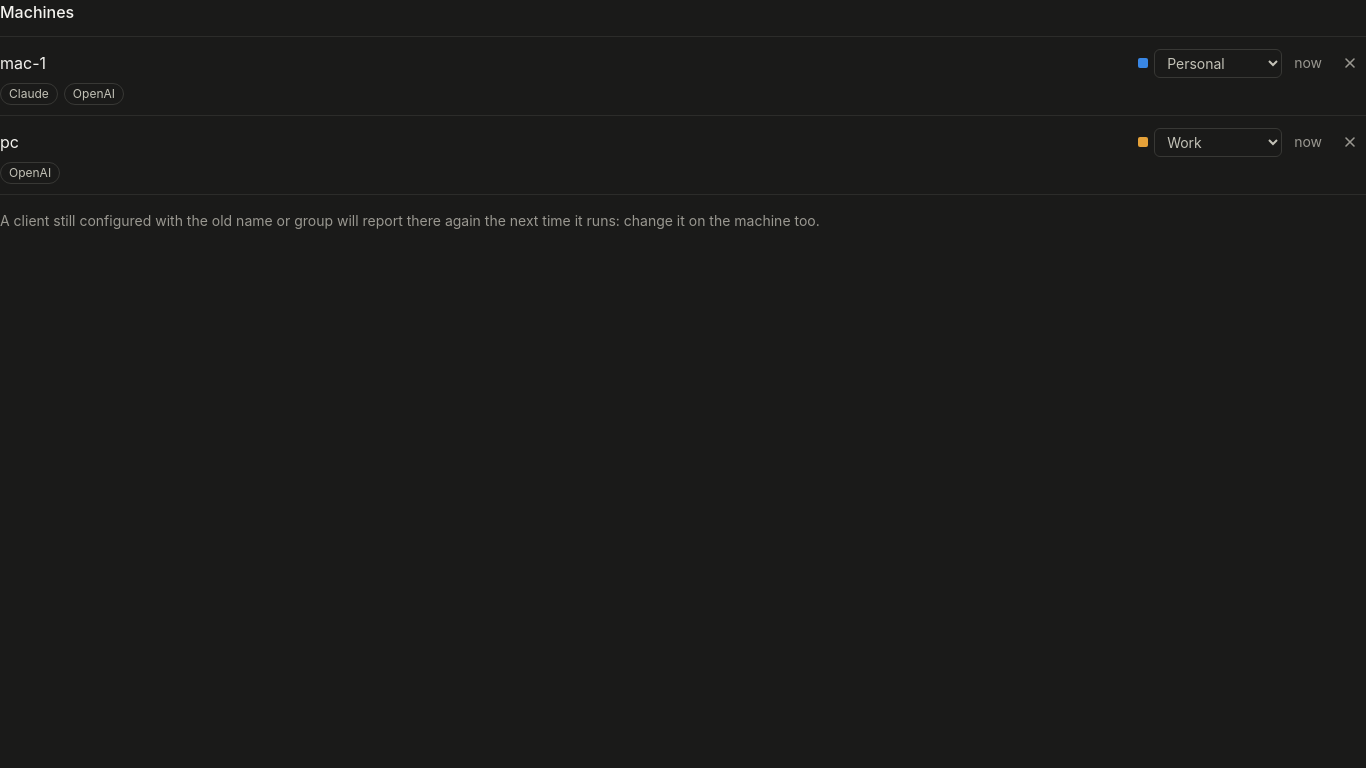
Scenario: MachinesSection › offers a merge for a rename onto another machine's name, and merges every entry once confirmed
Click the button "mac-1" at (23, 63), box x1=0 y1=51 x2=1126 y2=75
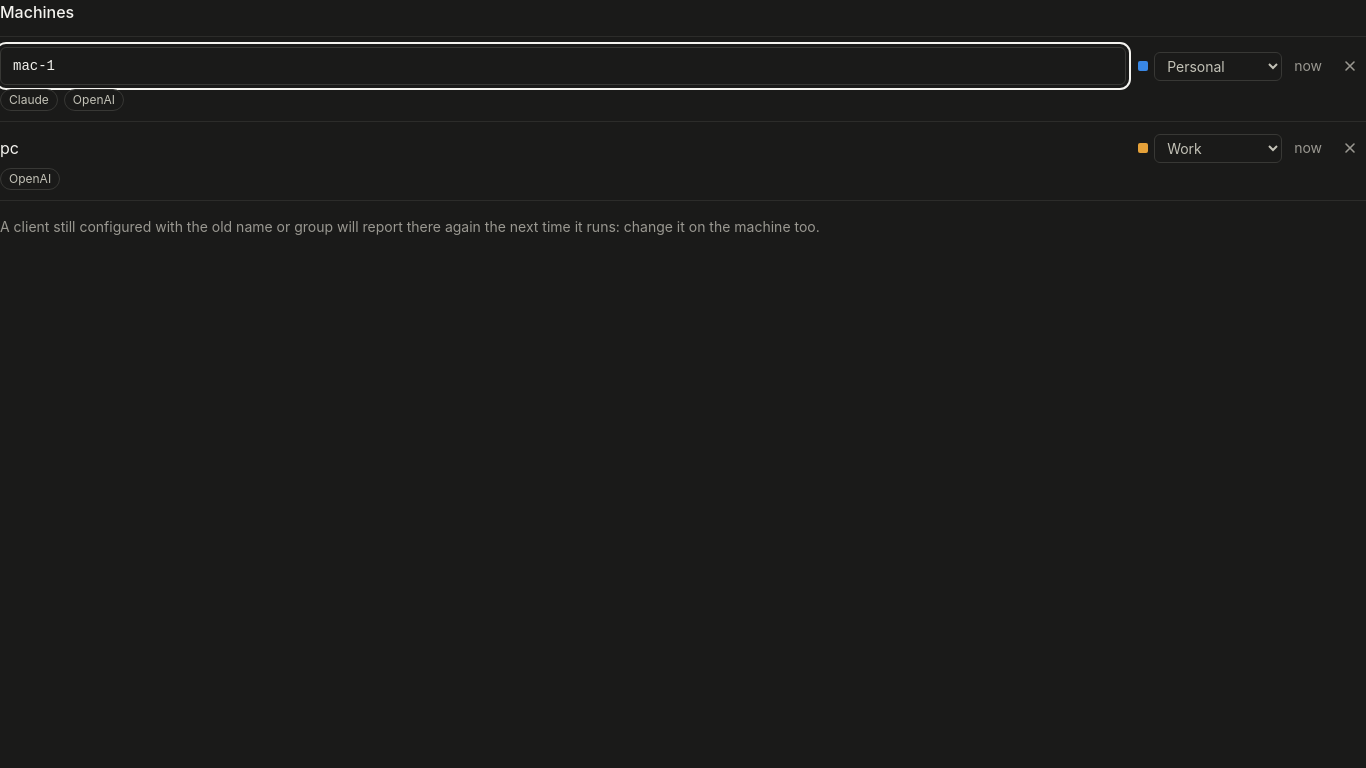
Replace the text in the field named "Rename “mac-1”" with "pc" at (563, 66), box x1=0 y1=47 x2=1126 y2=85
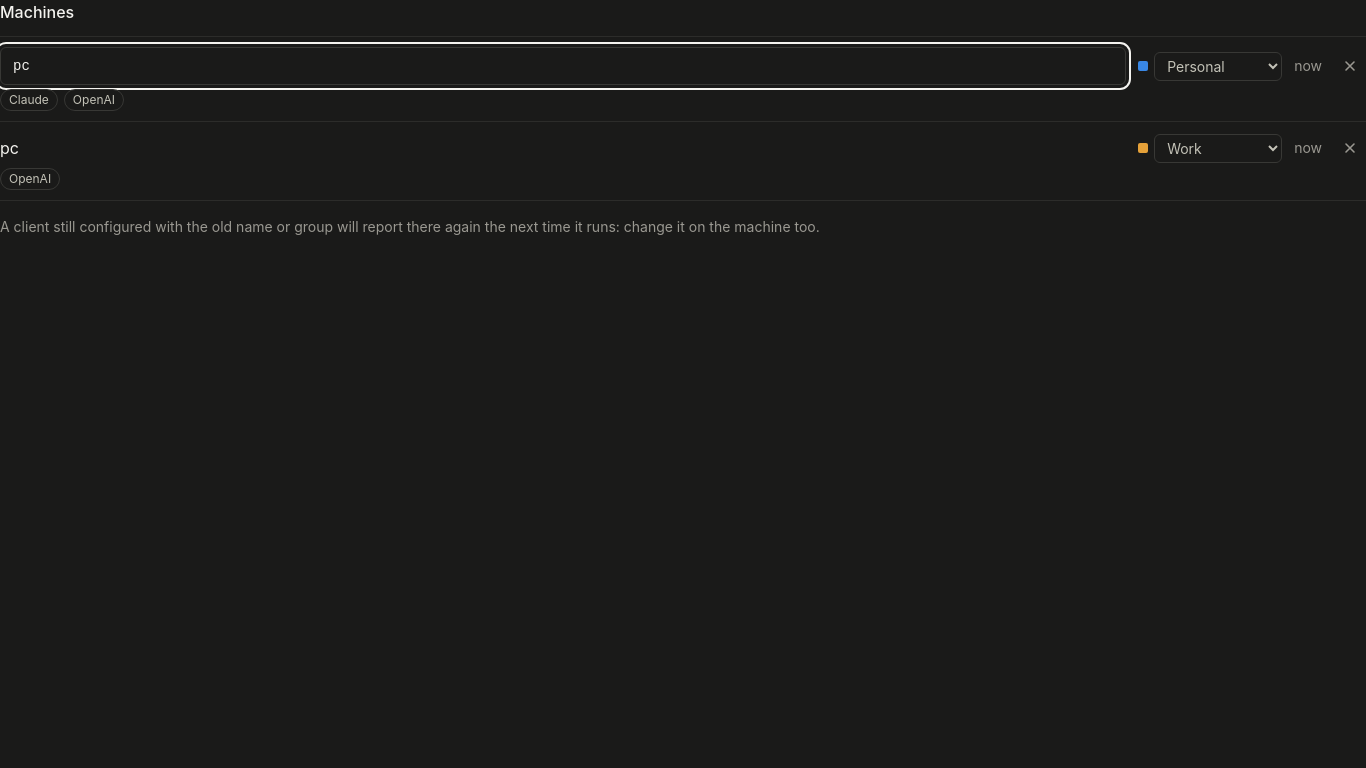
Press Enter in the field named "Rename “mac-1”", box x1=0 y1=47 x2=1126 y2=85
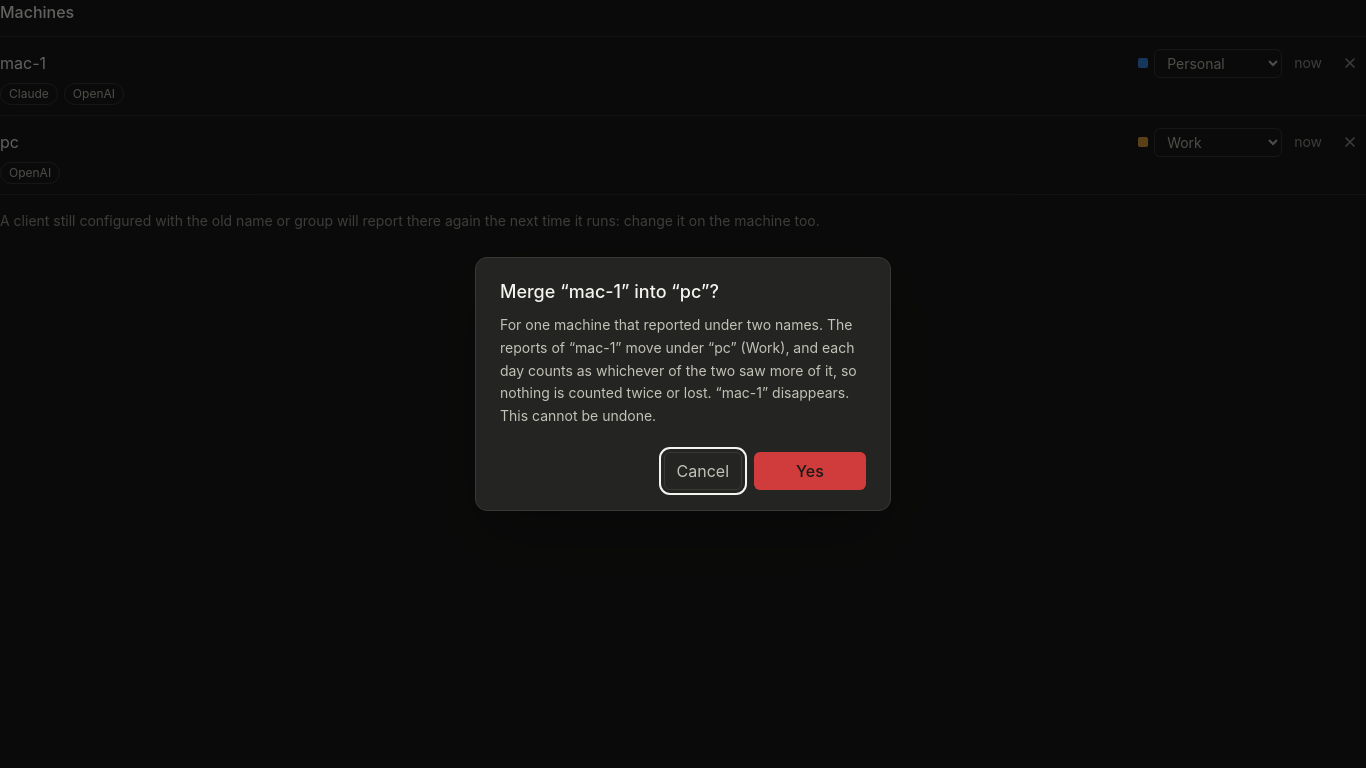
expect the heading "Merge “mac-1” into “pc”?" is shown: met, box x1=500 y1=281 x2=719 y2=302
expect the text "move under “pc” (Work)" is shown: met, box x1=500 y1=316 x2=857 y2=424
expect the button "Yes" is enabled: met
Click the button "Yes" at (810, 471), box x1=754 y1=452 x2=866 y2=490
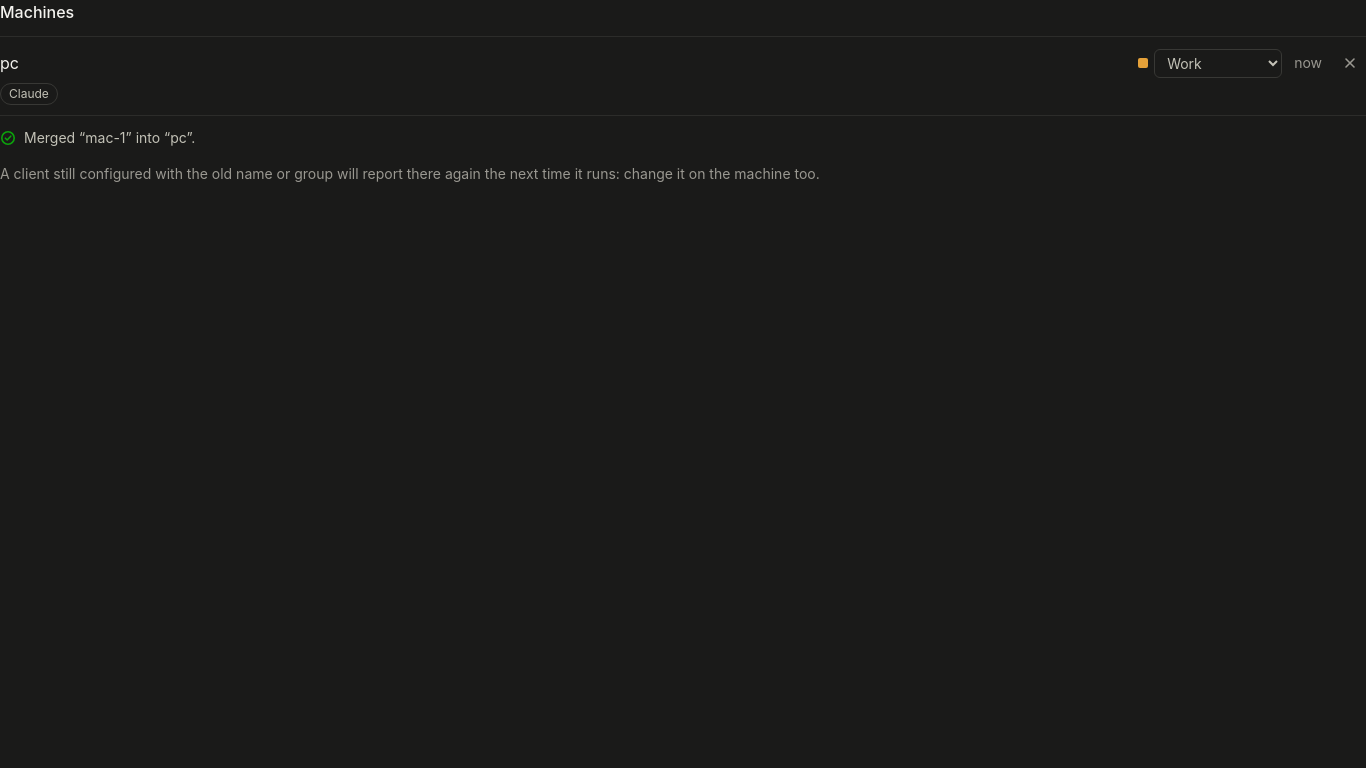
expect the text "Merged “mac-1” into “pc”." is shown: met, box x1=24 y1=128 x2=195 y2=148
